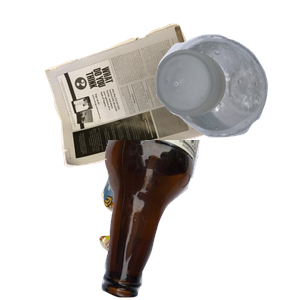glass: (99, 140, 300, 300)
paper: (42, 21, 249, 181)
plastic: (153, 31, 300, 161)
trash: (97, 151, 283, 300)
